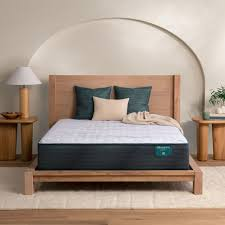bed-matress: (37, 115, 191, 171)
